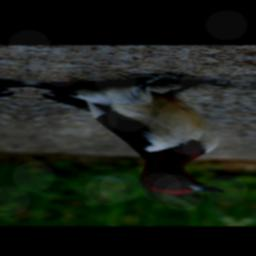Woodpecker: (6, 65, 256, 198)
